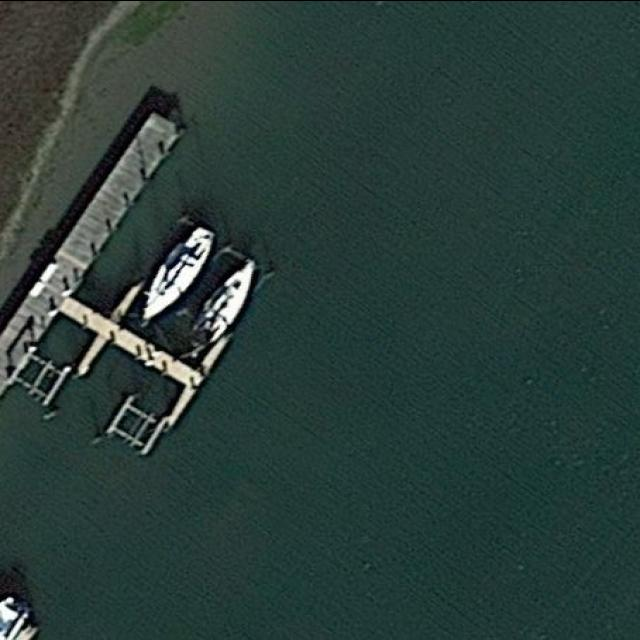ship: (179, 256, 269, 361), (138, 220, 217, 320)
